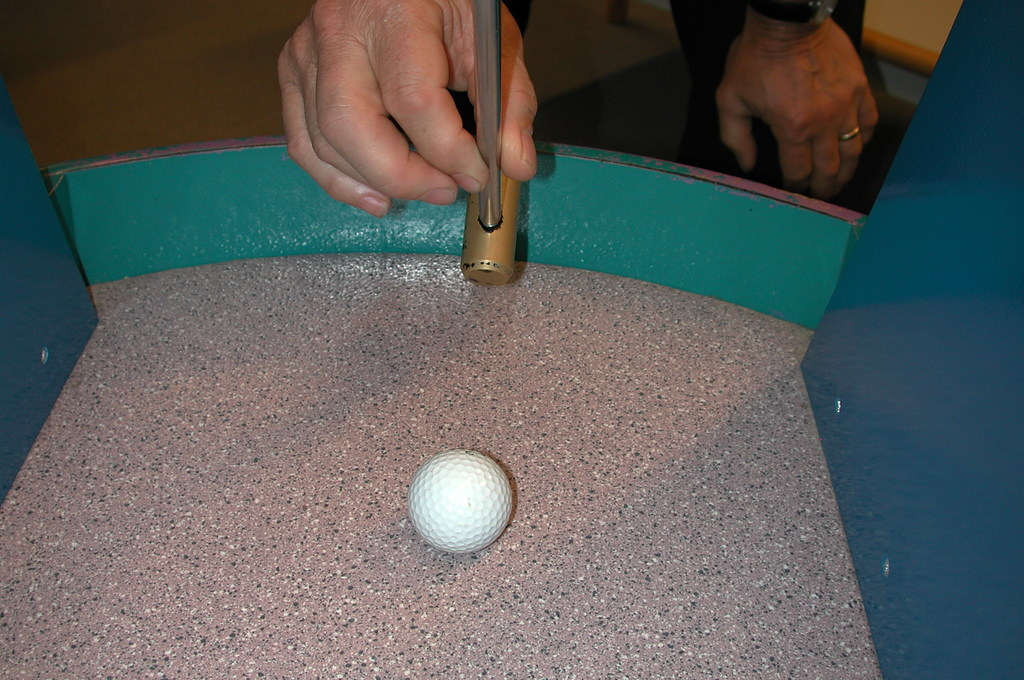Ball: (405, 446, 511, 552)
